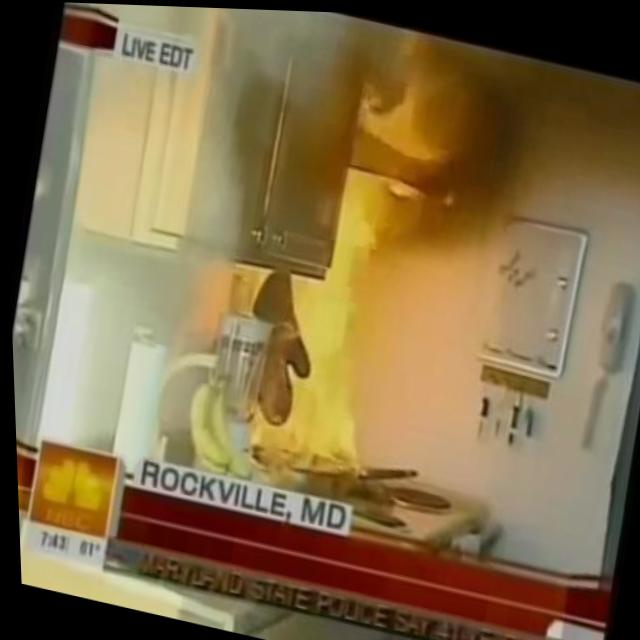fire: (207, 47, 469, 491)
